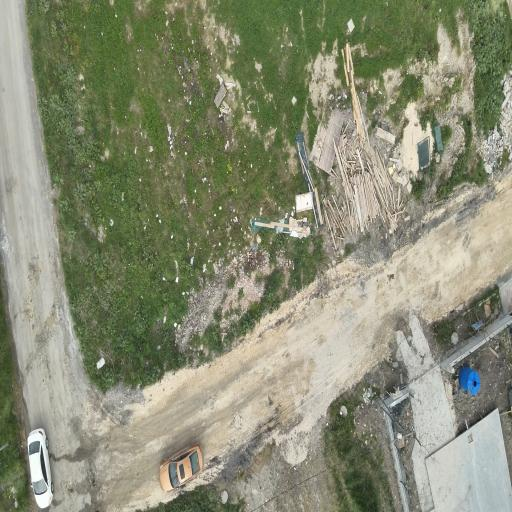car: (158, 443, 202, 491), (27, 428, 52, 507)
